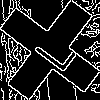L: (25, 25, 78, 75)
